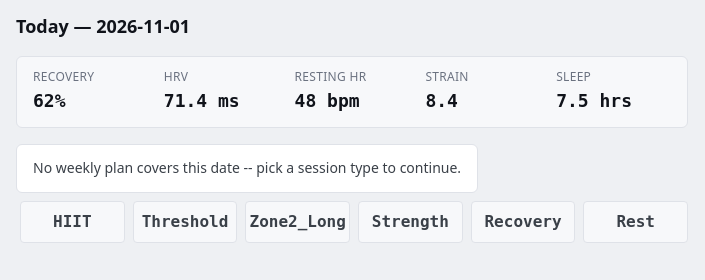
Test case: MorningView › no-plan fallback: surfaces the session-type picker as the first question, then proceeds
Check: the element with test id "morning-session-picker" shows "No weekly plan covers this date -- pick a session type to continue.", box [33,158,461,177]
Check: the element with test id "biometrics-header" shows "62%", box [33,90,66,111]
Click the button with test id "session-type-Strength". click: click(410, 222)
box: [358,201,463,243]
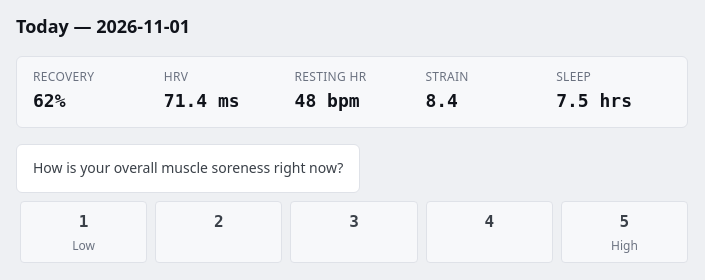
Check: the element with test id "question-muscle_soreness" is shown, box [16,144,360,193]
